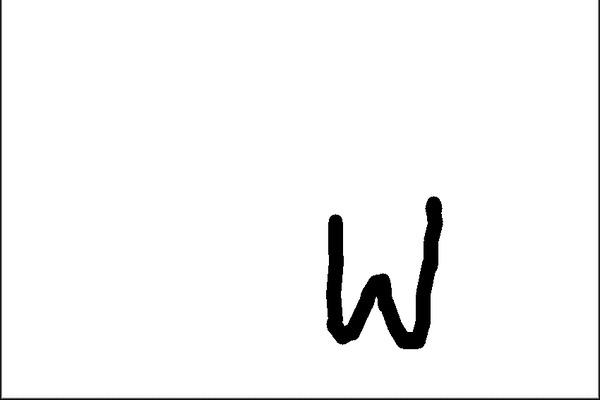w: (299, 183, 455, 354)
